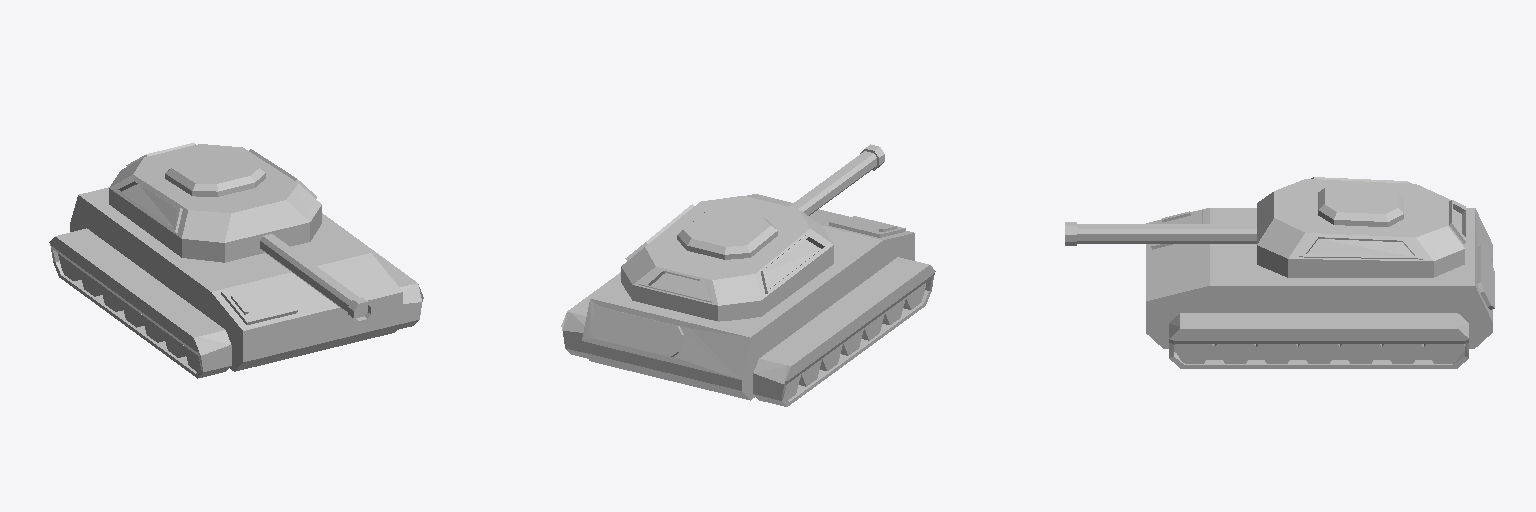
The model's file is tank.obj.
The picture shows the model from 3 angles: view 1: azimuth 30°, elevation 25°; view 2: azimuth 150°, elevation 25°; view 3: azimuth 270°, elevation 25°; orthographic projection.
Parts seen in each view (by area): view 1: pasted__pCube5.001_Mesh; view 2: pasted__pCube5.001_Mesh; view 3: pasted__pCube5.001_Mesh.
Part boxes in pixels (x1,y1,x2,y2): pasted__pCube5.001_Mesh: (49,143,423,378); pasted__pCube5.001_Mesh: (561,144,935,406); pasted__pCube5.001_Mesh: (1065,177,1494,368).
Bounding box in the file's own units: 0.56 × 0.2854 × 0.928.